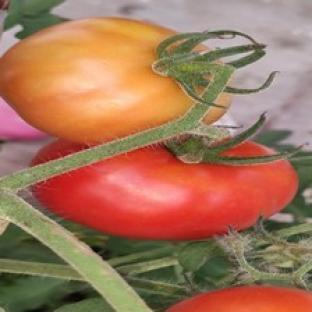Tomato: (33, 145, 298, 239), (0, 17, 193, 143), (168, 286, 311, 311), (0, 99, 45, 140)
